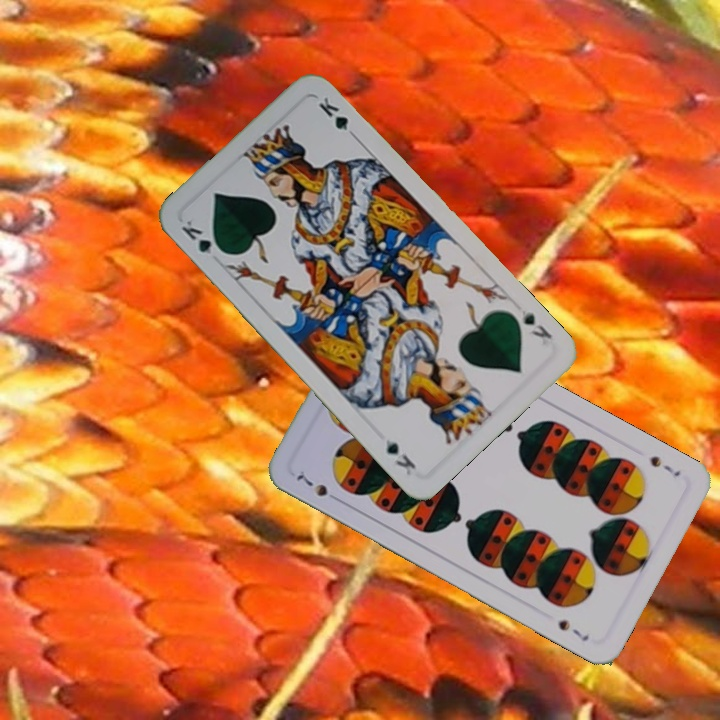GK: (177, 214, 228, 258), (516, 305, 555, 342)
S7: (292, 470, 344, 505), (646, 451, 683, 480)
